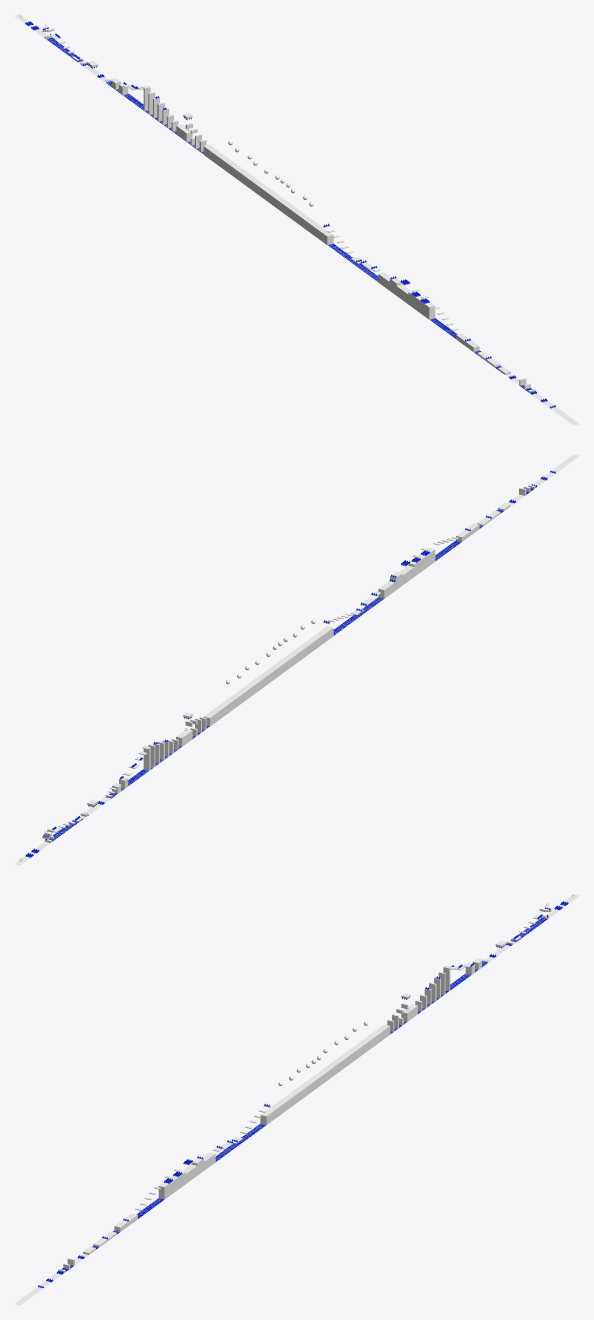
Rendered from geometry_level_draco.glb.
3 renders of one model, top to bottom at view 1: azimuth 30°, elevation 25°; view 2: azimuth 150°, elevation 25°; view 3: azimuth 330°, elevation 25°, orthographic.
Parts seen in each view (by area): view 1: Cubo.031, Piano; view 2: Cubo.031, Piano; view 3: Cubo.031, Piano.
Part boxes in pixels (<box>): Cubo.031: <box>203,144,333,245</box>; Piano: <box>14,14,579,425</box>; Cubo.031: <box>203,626,333,726</box>; Piano: <box>14,454,579,865</box>; Cubo.031: <box>260,1024,390,1124</box>; Piano: <box>14,894,579,1305</box>.
Bounding box in the file's own units: 3.18 × 13.75 × 480.
